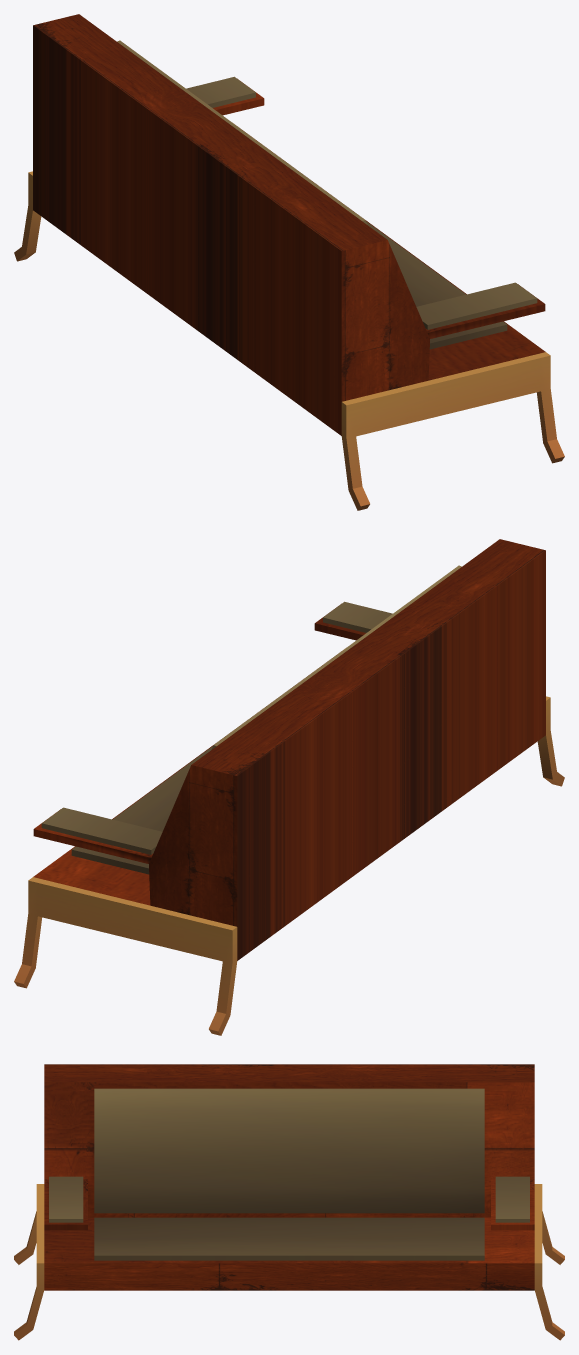
Rendered from ShortCouchBench_2.fbx.
3 renders of one model, top to bottom at view 1: azimuth 30°, elevation 25°; view 2: azimuth 150°, elevation 25°; view 3: azimuth 270°, elevation 25°, orthographic. The views are drawn at different scales.
Parts seen in each view (by area): view 1: ShortBenchCouch2, LongBenchCouchArms.002; view 2: ShortBenchCouch2, LongBenchCouchArms.002; view 3: ShortBenchCouch2, LongBenchCouchArms.002.
Boxes of the visible parts, x1,y1,x2,y2 form: ShortBenchCouch2: (33, 14, 545, 435); LongBenchCouchArms.002: (14, 171, 564, 510); ShortBenchCouch2: (33, 539, 545, 960); LongBenchCouchArms.002: (14, 696, 564, 1035); ShortBenchCouch2: (44, 1064, 534, 1290); LongBenchCouchArms.002: (14, 1184, 564, 1340).
Size of the model in its own units: 246 by 286 by 724.
